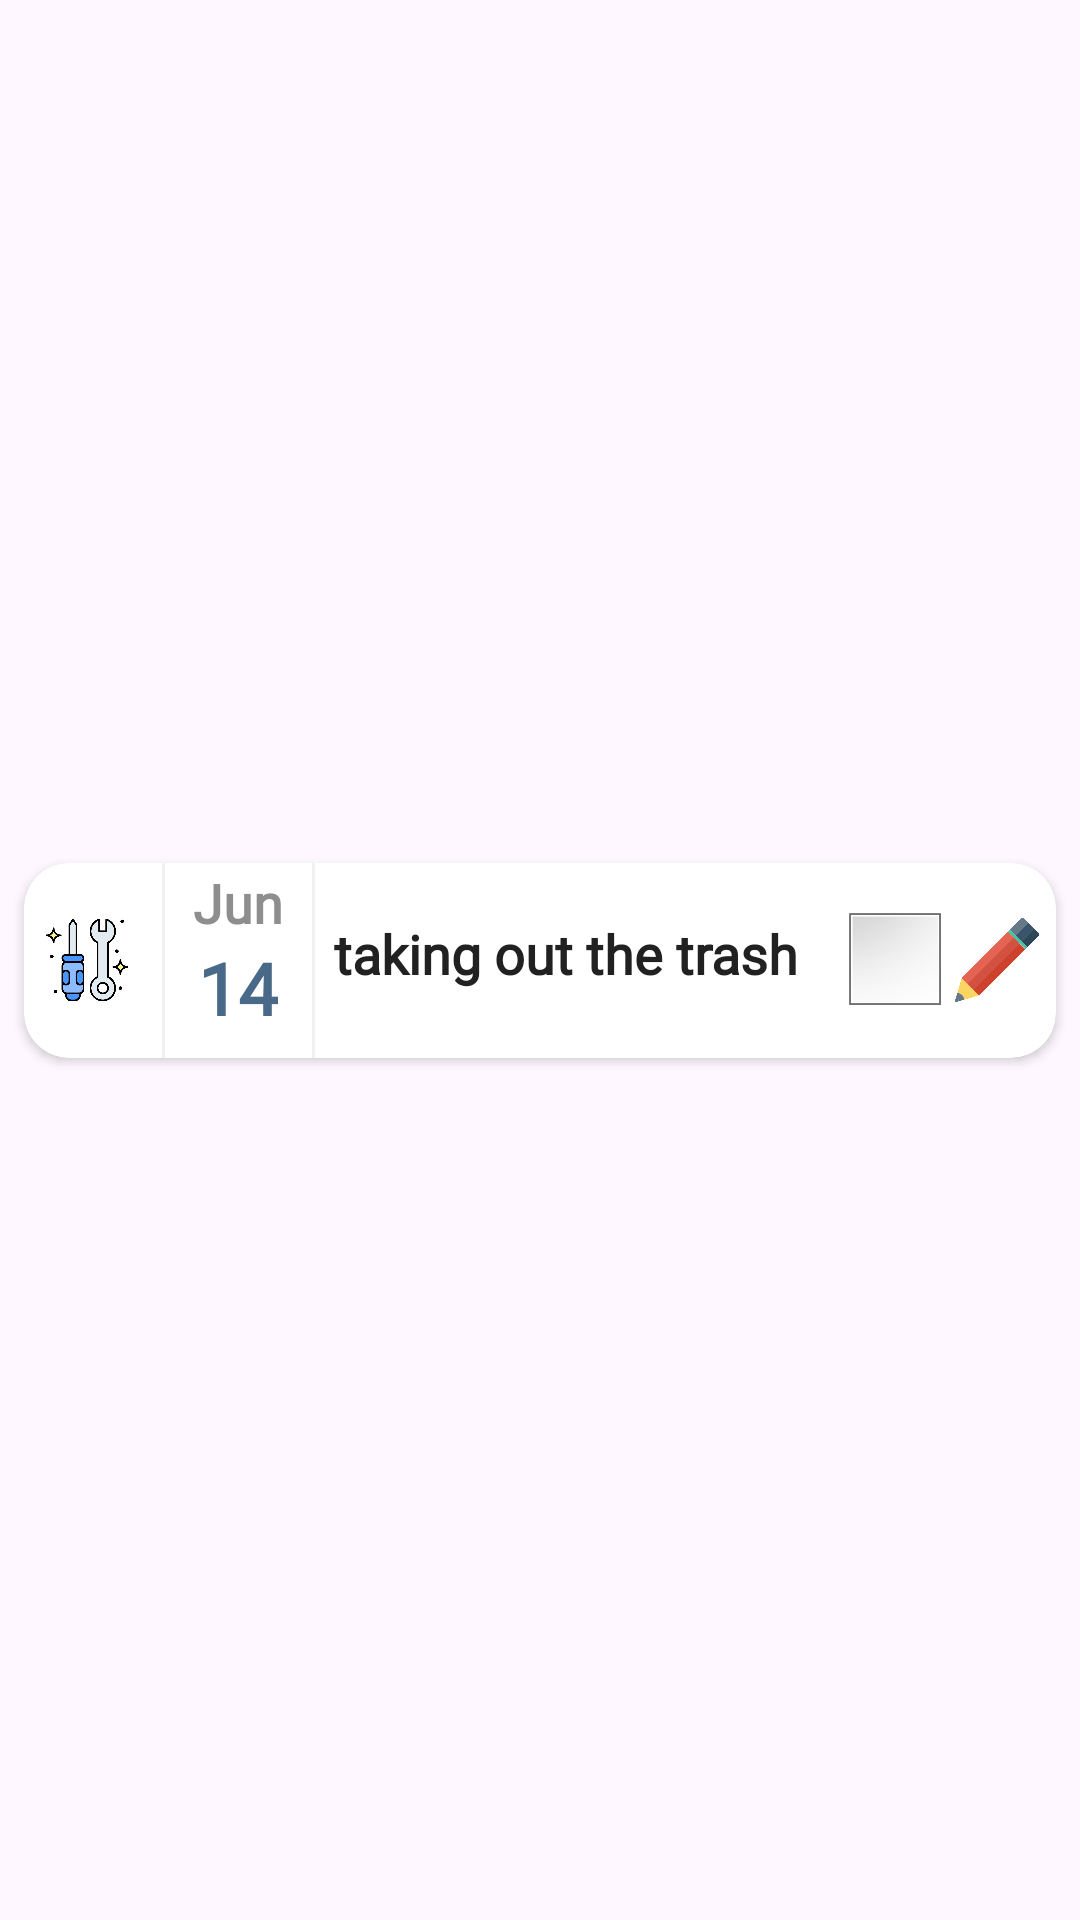

Screen size 1080 x 1920. Icon name, then its box in pixels as detection(x1, y1, x2, y2):
pencil: detection(955, 918, 1039, 1002)
screwdriver: detection(46, 919, 128, 1001)
